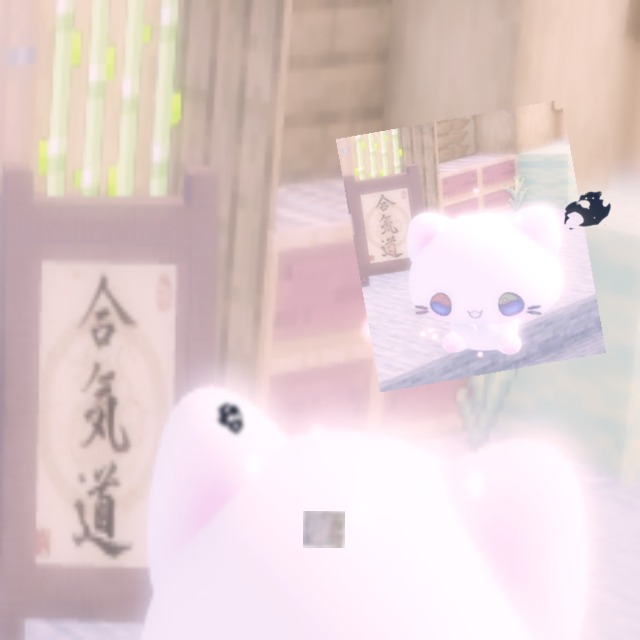urso_branco: (335, 99, 607, 393), (303, 511, 345, 548)
urso_preto: (550, 181, 624, 241), (211, 399, 252, 441)
